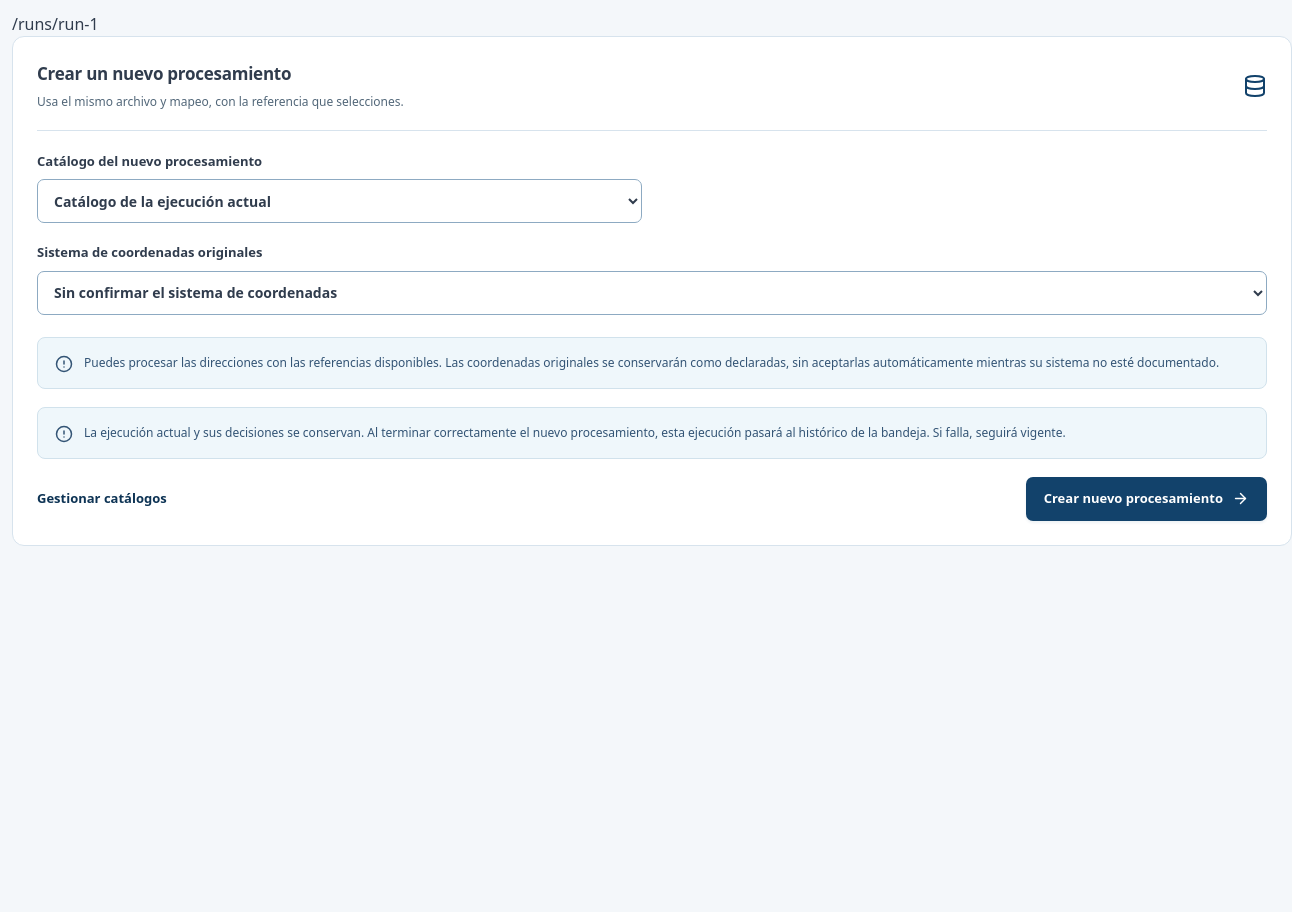
Test case: reference-aware reprocessing › creates a new execution with reference ref-2 and CRS choice EPSG:4326
The width and height of the screenshot is (1292, 912).
Select "Catálogo sintético · v2" in the dropdown labelled "Catálogo del nuevo procesamiento" at (340, 201), box top-left (37, 179), bottom-right (642, 223)
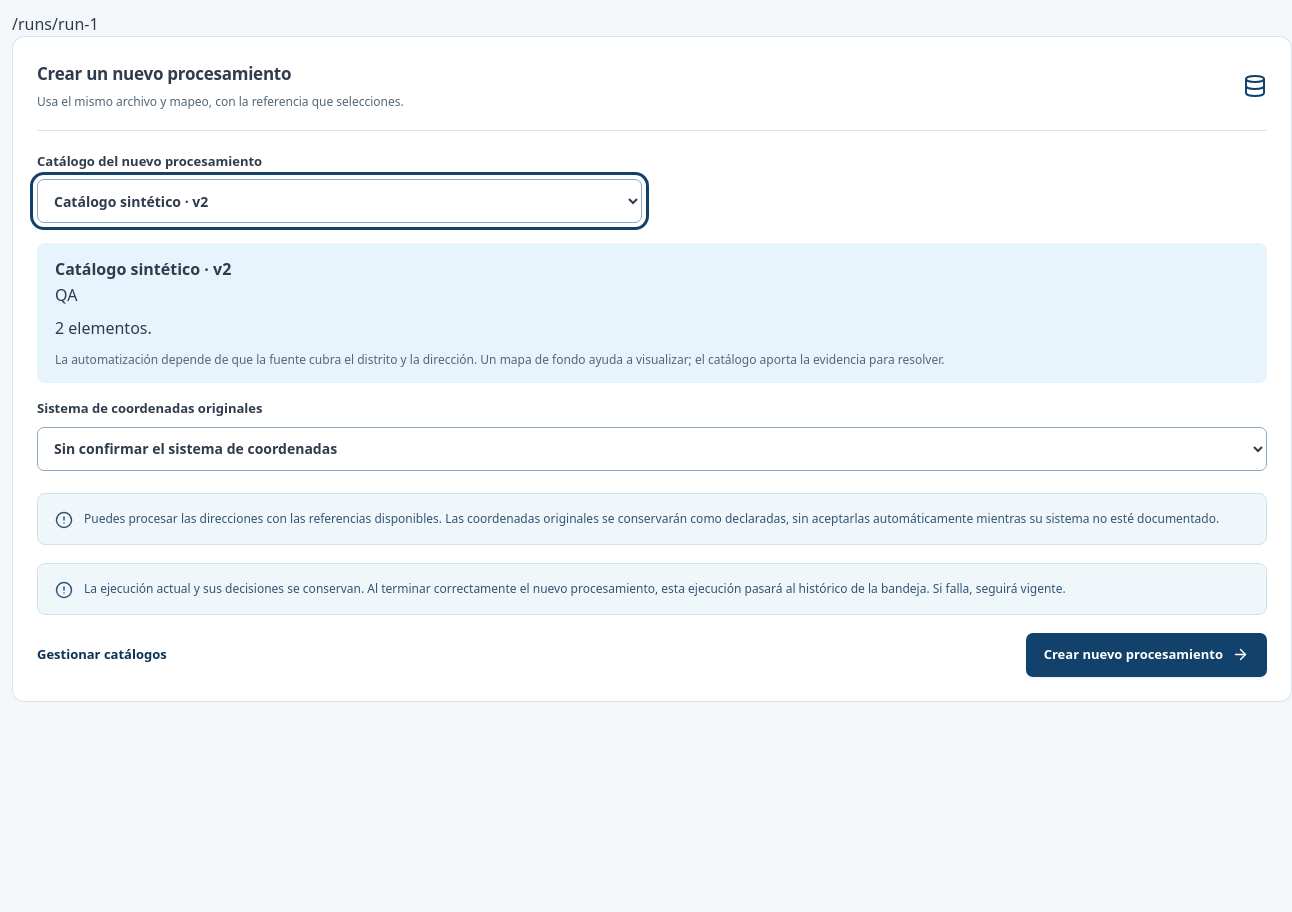
Select "WGS84 · EPSG:4326 documentado" in the dropdown labelled "Sistema de coordenadas originales" at (652, 449), box top-left (37, 427), bottom-right (1267, 471)
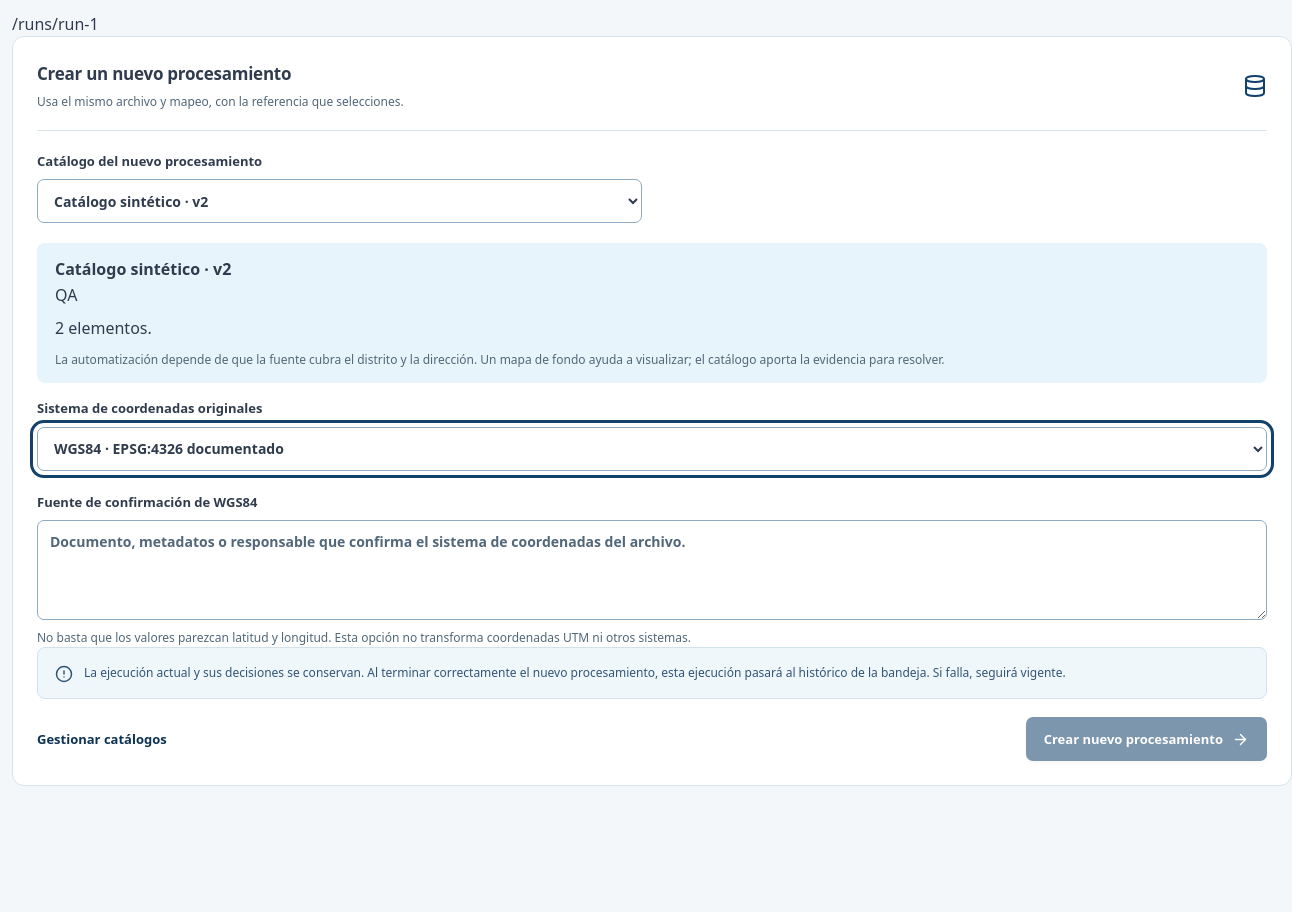
Type "Metadatos sintéticos de prueba WGS84" into the text box labelled "Fuente de confirmación de WGS84".
click(652, 570); type("Metadatos sintéticos de prueba WGS84")  # box top-left (37, 520), bottom-right (1267, 620)
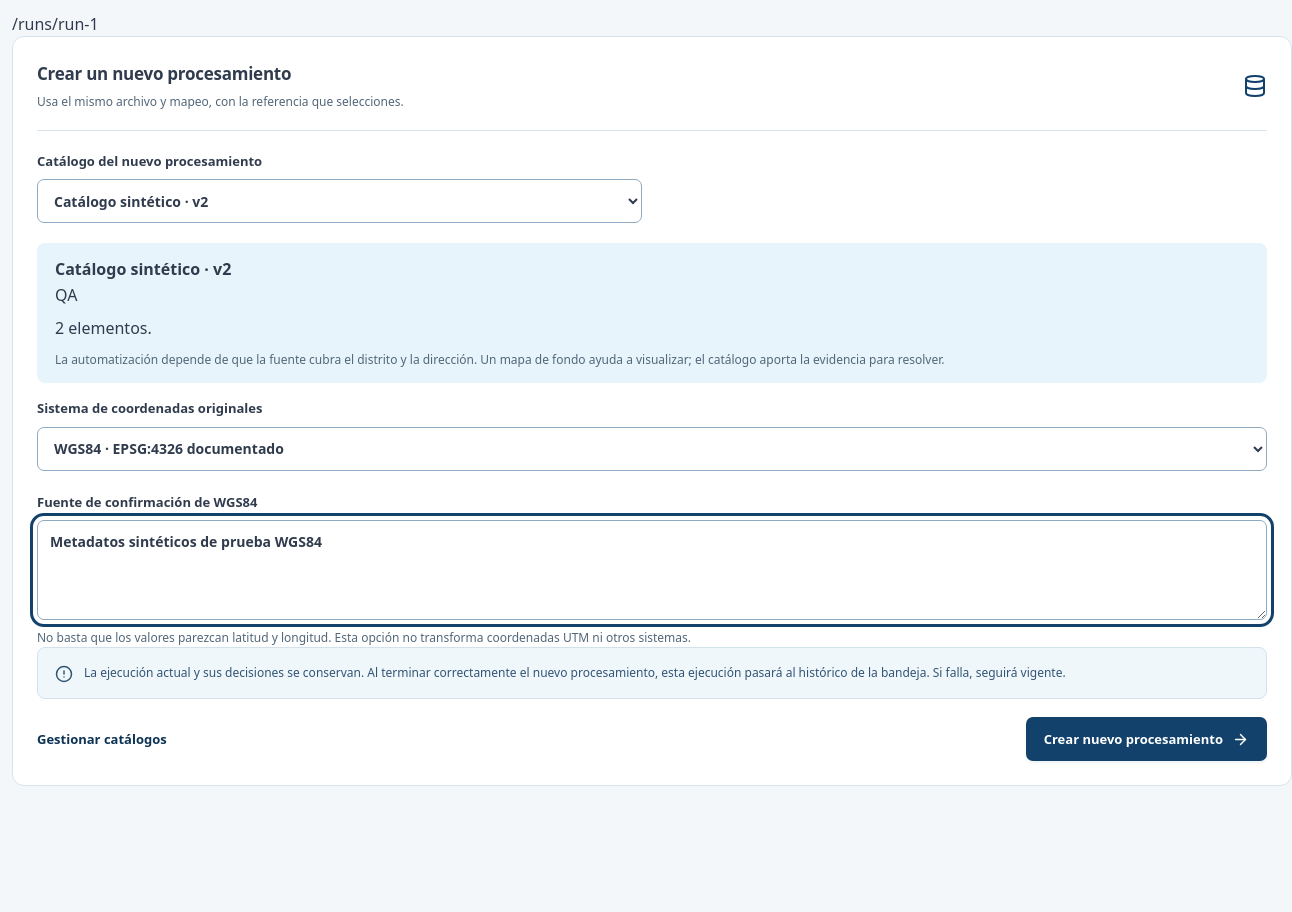
Click the button "Crear nuevo procesamiento".
click(1146, 739)  # box top-left (1026, 717), bottom-right (1267, 761)
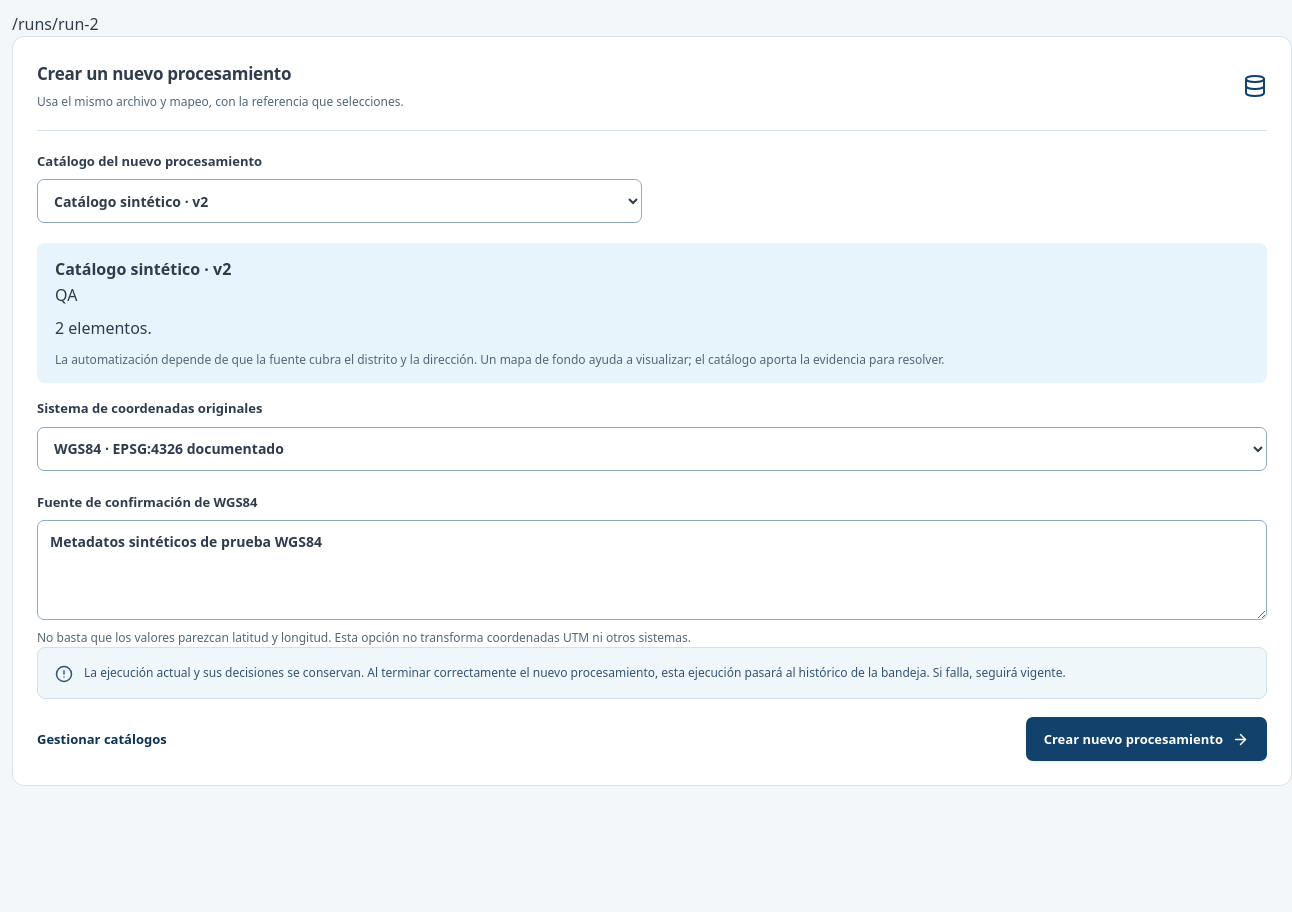
Expected: the text with test id "path" reads "/runs/run-2", top-left (12, 13), bottom-right (99, 35)
